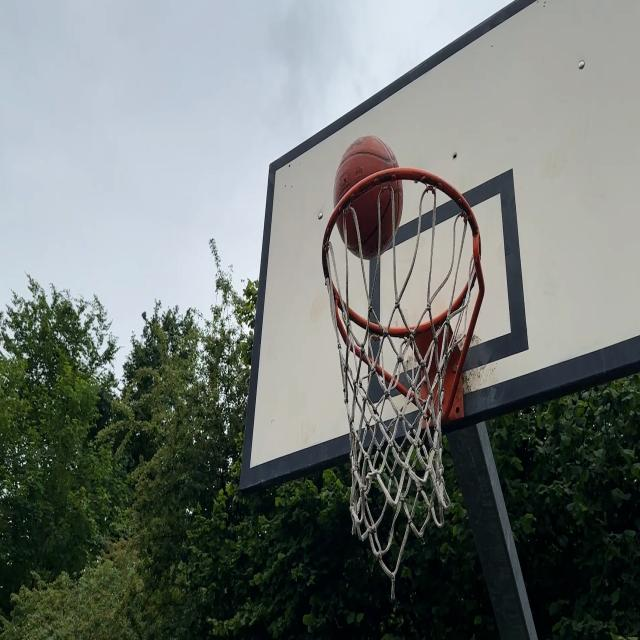rebound_hit: (332, 138, 403, 258)
